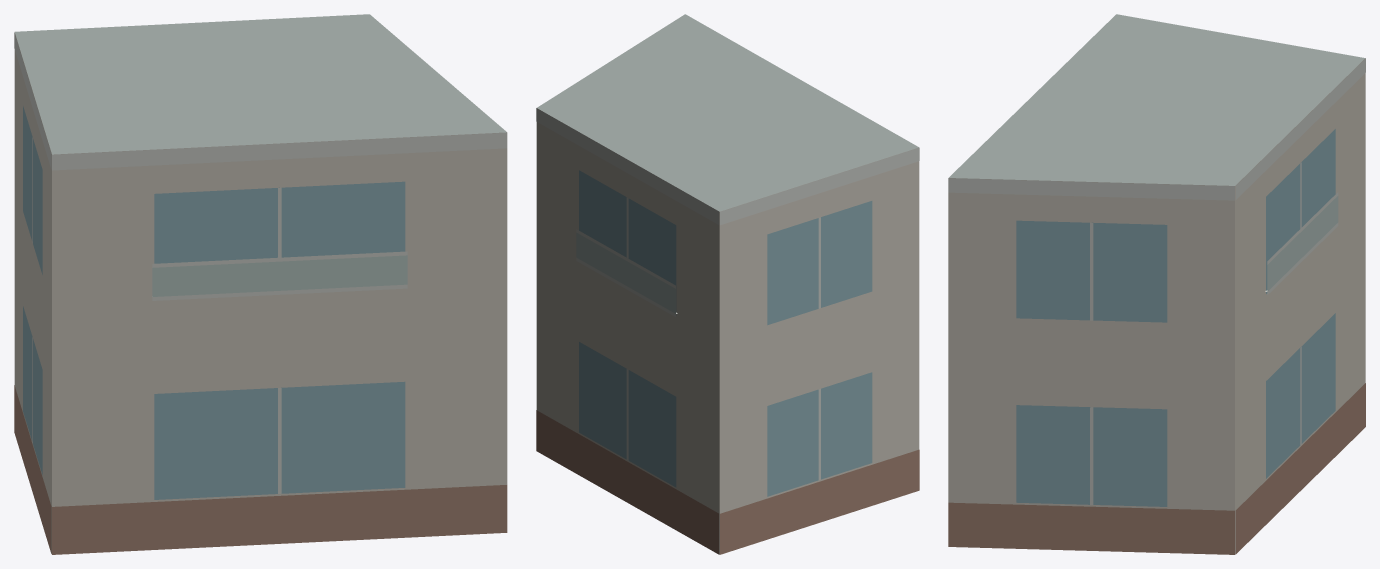
Rendered from survey-upis-32960114.glb.
3 renders of one model, left to right at view 1: azimuth 30°, elevation 25°; view 2: azimuth 150°, elevation 25°; view 3: azimuth 270°, elevation 25°, orthographic. The views are drawn at different scales.
Visible parts, largest first — view 1: survey-upis-32960114.tmp; view 2: survey-upis-32960114.tmp; view 3: survey-upis-32960114.tmp.
Boxes of the visible parts, bbox=[...] form: survey-upis-32960114.tmp: bbox=[14, 14, 507, 554]; survey-upis-32960114.tmp: bbox=[536, 14, 919, 554]; survey-upis-32960114.tmp: bbox=[948, 14, 1365, 554].
Bounding box in the file's own units: 6.11 × 6.1 × 6.26.
